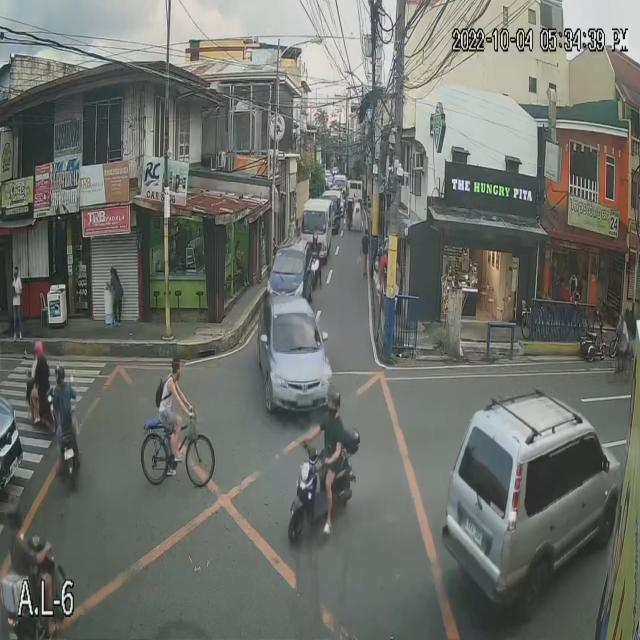half: (54, 361, 66, 385), (34, 338, 46, 359)
invalid: (327, 386, 342, 409)
